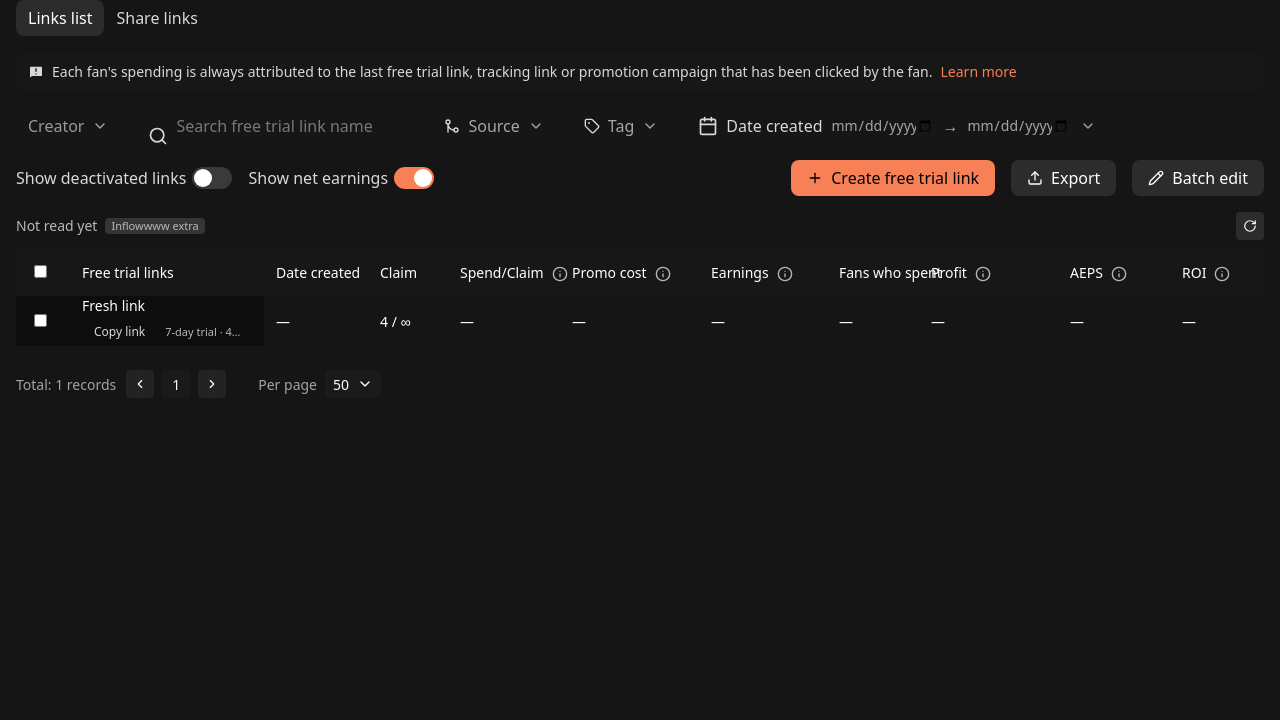
it: TrialLinksTab Create › creates with Infloww's/OF's fields, sending the offer expiration
Check: the text "Fresh link" is shown, box [82,296,145,315]
Click the button "Create free trial link" at (893, 178), box [791,160,995,196]
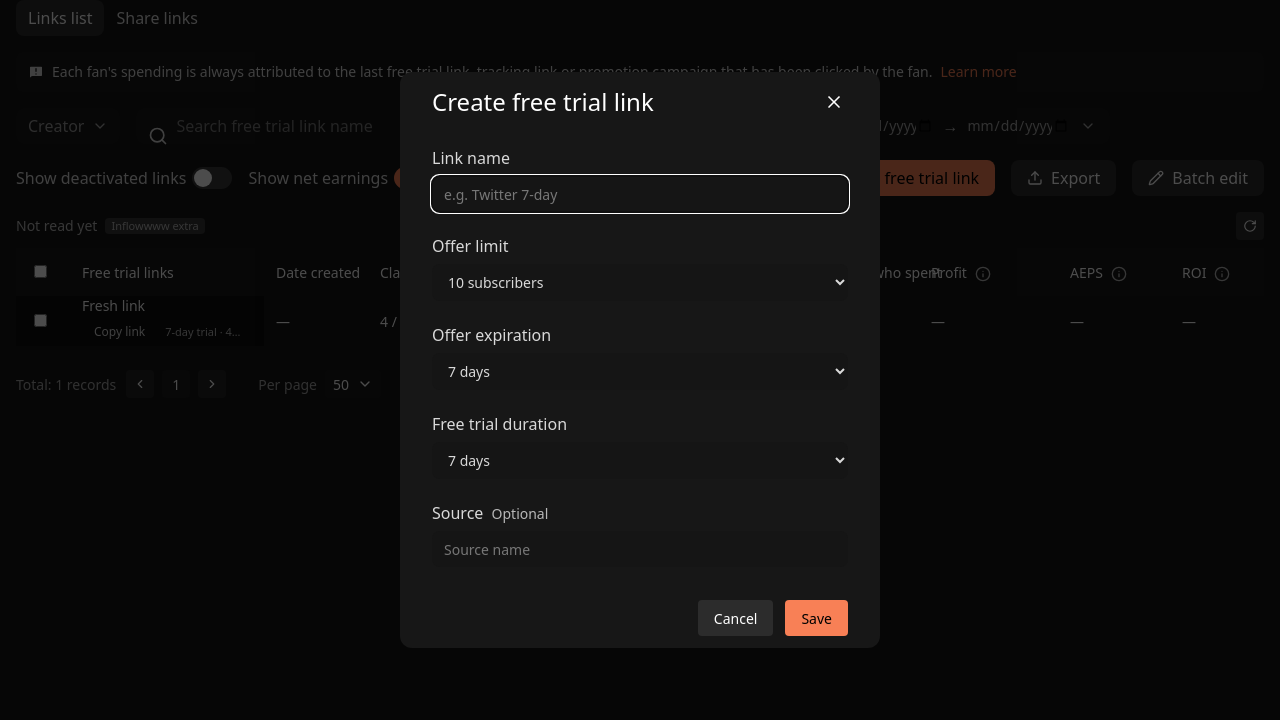
Type "  Reddit" into the field with placeholder "e.g. Twitter 7-day" at (640, 194), box [432,176,848,212]
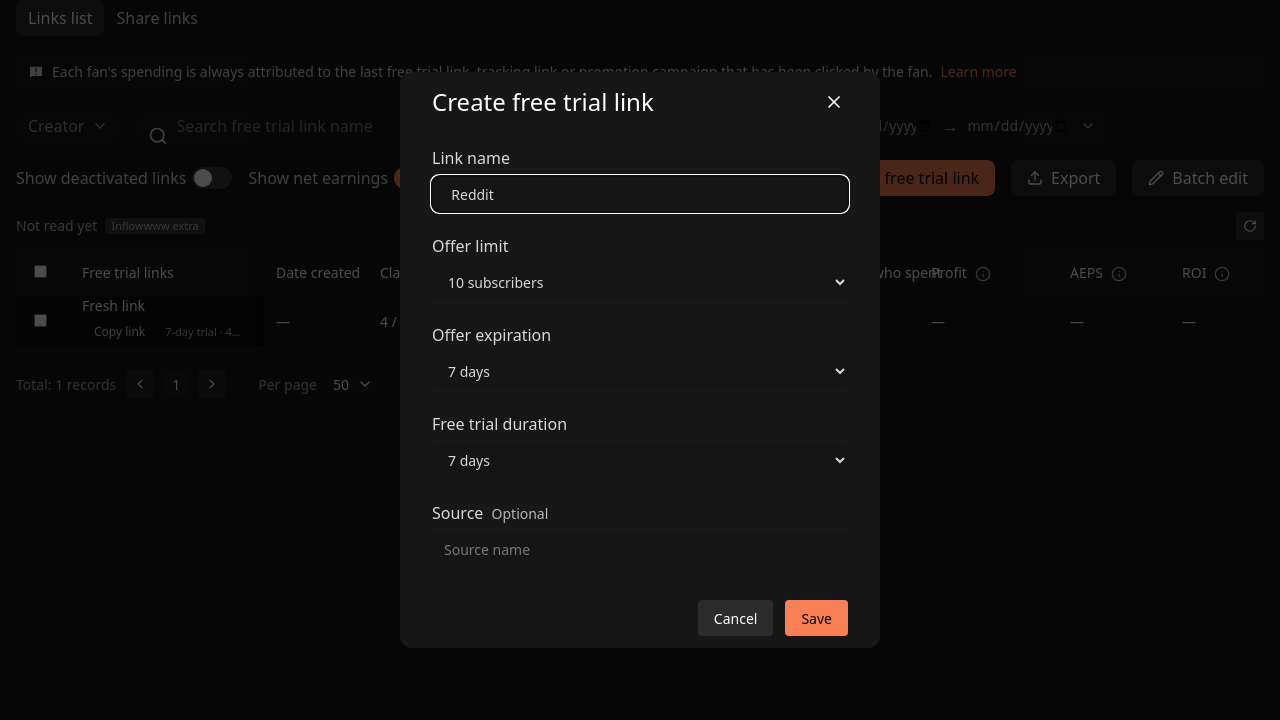
Select "50 subscribers" in the dropdown named "Offer limit" at (640, 282), box [432,264,848,301]
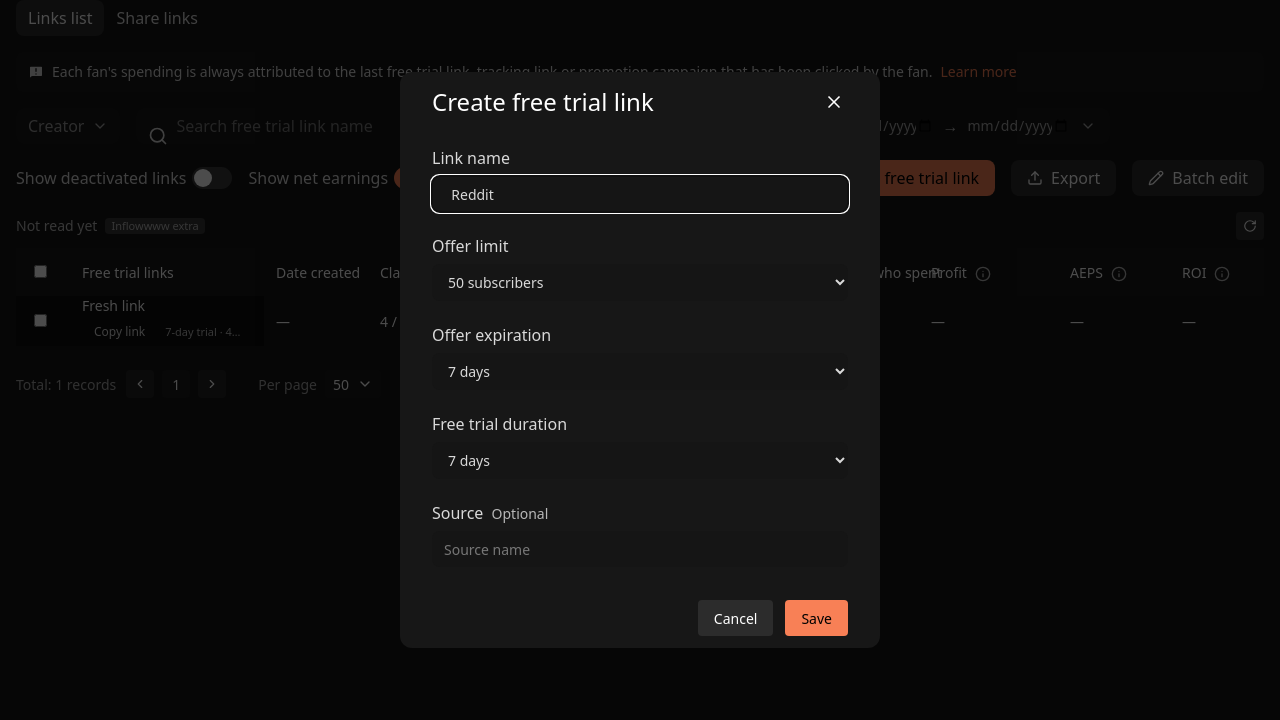
Select "No expiration" in the dropdown named "Offer expiration" at (640, 372), box [432,353,848,390]
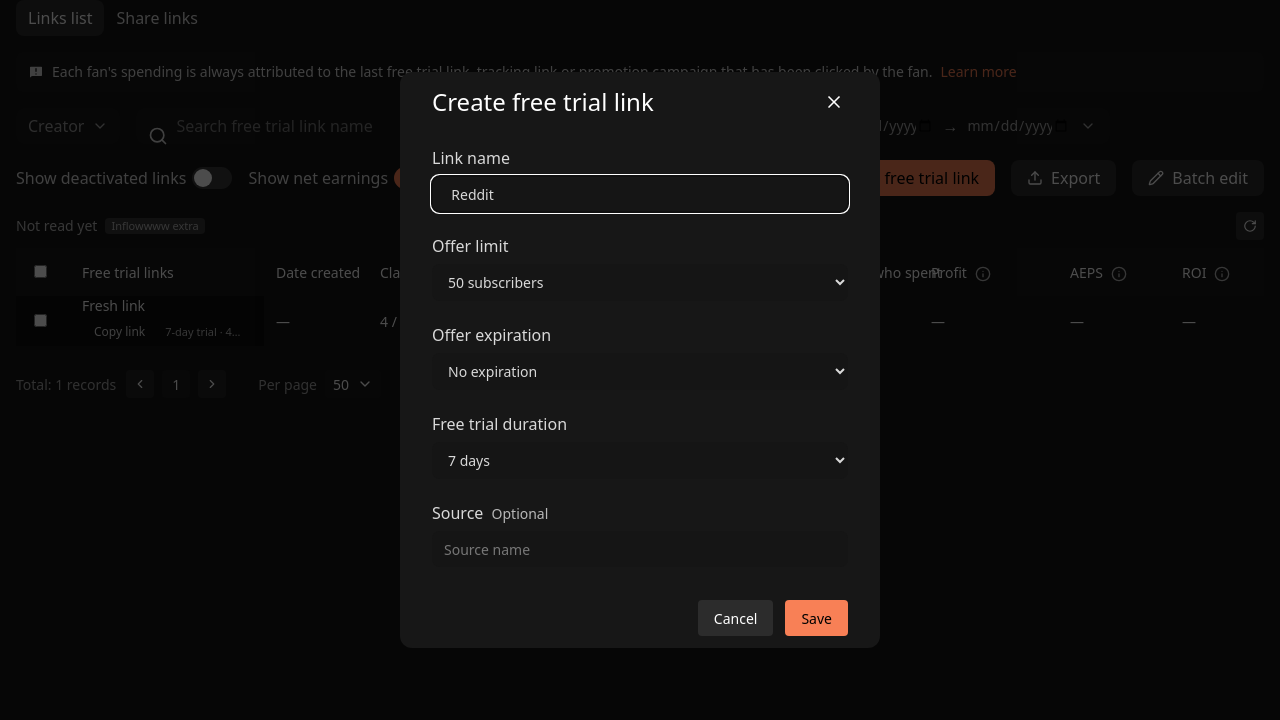
Select "1 month" in the dropdown named "Free trial duration" at (640, 460), box [432,442,848,479]
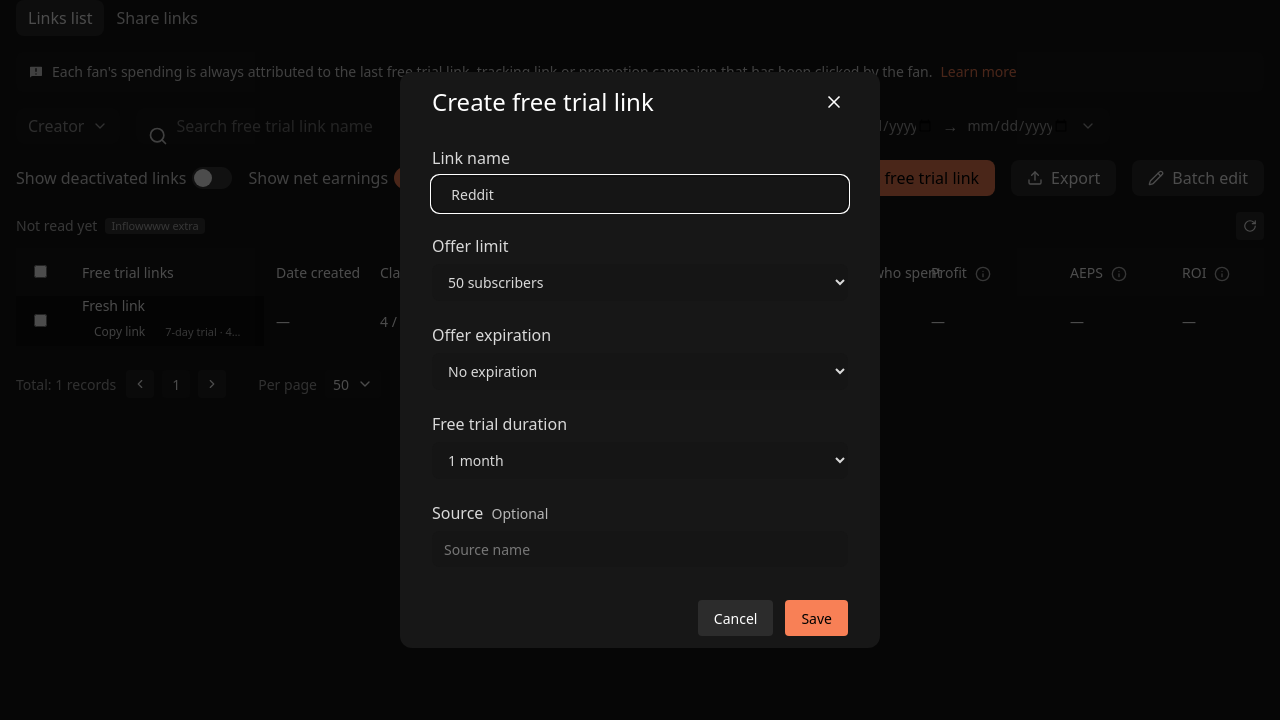
Click the button "Save" at (817, 618), box [785,600,848,636]
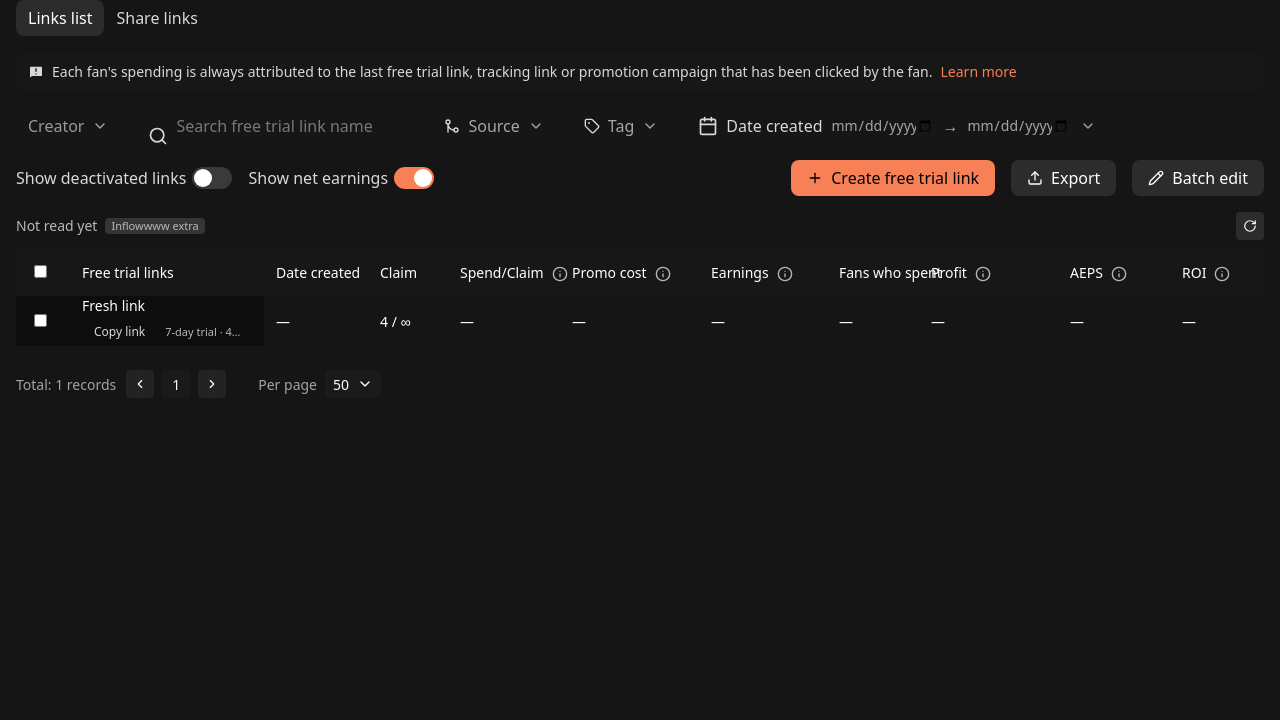
Check: the dialog is gone
